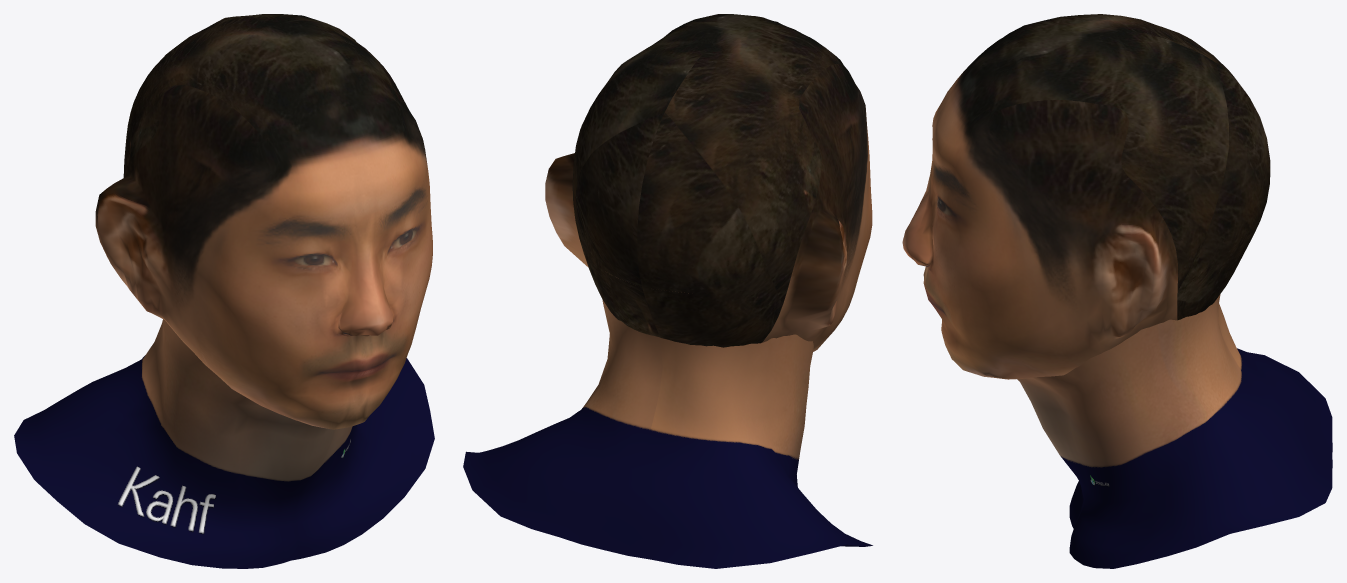
Rendered from 3D_KAHF_HeadNeck_Diamond.glb.
3 renders of one model, left to right at view 1: azimuth 30°, elevation 25°; view 2: azimuth 150°, elevation 25°; view 3: azimuth 270°, elevation 25°, orthographic. The views are drawn at different scales.
Parts seen in each view (by area): view 1: HEAD - DIAMOND SHAPE.003, NECK - ROUND SHAPE.004; view 2: HEAD - DIAMOND SHAPE.003, NECK - ROUND SHAPE.004; view 3: HEAD - DIAMOND SHAPE.003, NECK - ROUND SHAPE.004.
Part boxes in pixels (<box>): HEAD - DIAMOND SHAPE.003: <box>95,14,432,429</box>; NECK - ROUND SHAPE.004: <box>14,319,434,568</box>; HEAD - DIAMOND SHAPE.003: <box>545,14,872,351</box>; NECK - ROUND SHAPE.004: <box>463,277,872,568</box>; HEAD - DIAMOND SHAPE.003: <box>902,14,1270,379</box>; NECK - ROUND SHAPE.004: <box>1017,294,1332,568</box>.
Size of the model in its own units: 0.2726 by 0.349 by 0.2682.
2 materials, 2 textured.
